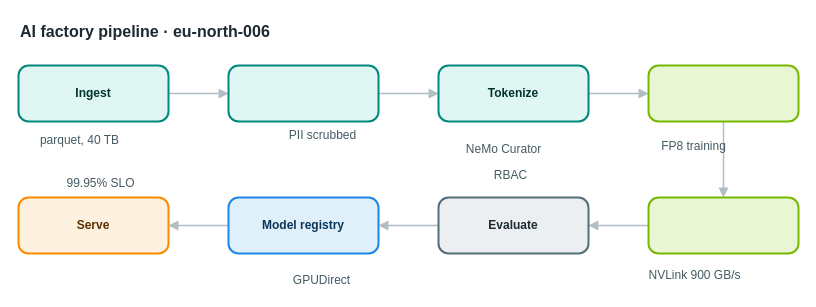
Some shapes in this 816 by 307 pixel diagram are drawn without their labels. The box of each missing label's shape, as (x1, y1, x2, y2) in pixels:
Curate: (227, 64, 379, 122)
Fine-tune: (647, 196, 799, 254)
Pretrain: (647, 64, 799, 122)
